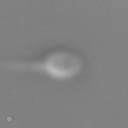normal: (1, 59, 47, 75)
